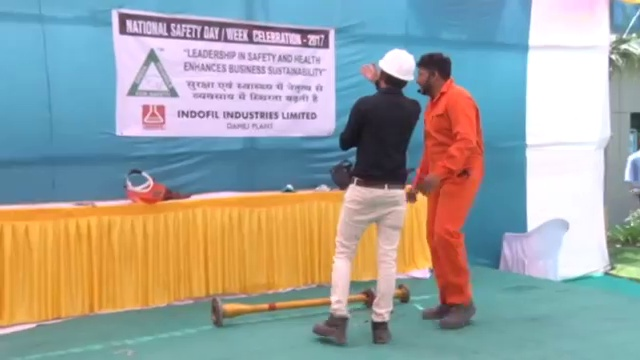helmet: (379, 47, 417, 83)
helmet_off: (418, 51, 451, 95)
helmet_on: (377, 47, 417, 94)
person: (320, 47, 421, 348), (409, 52, 484, 328)
